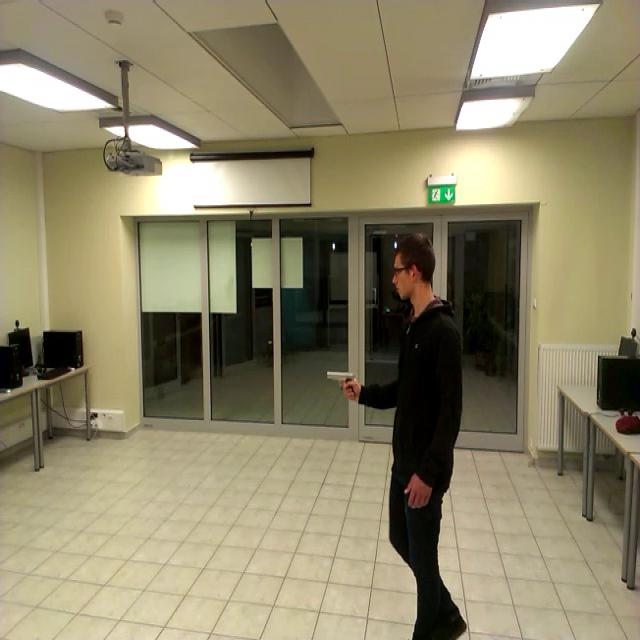handgun: (316, 363, 368, 411)
